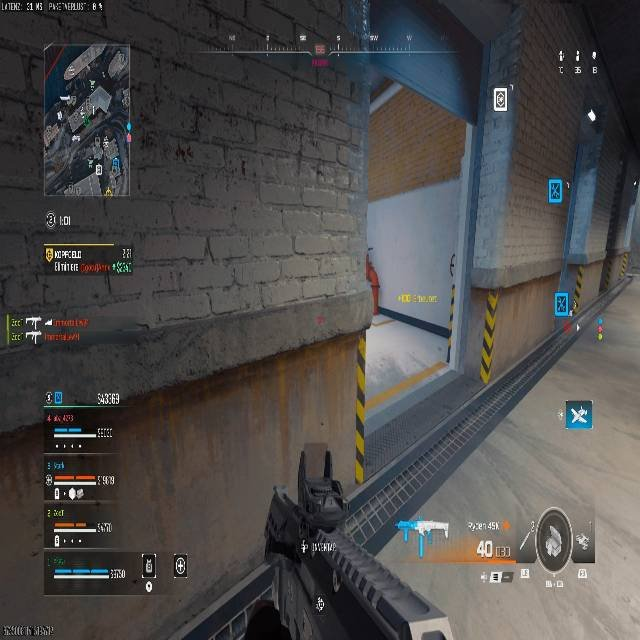player: (40, 44, 132, 197)
